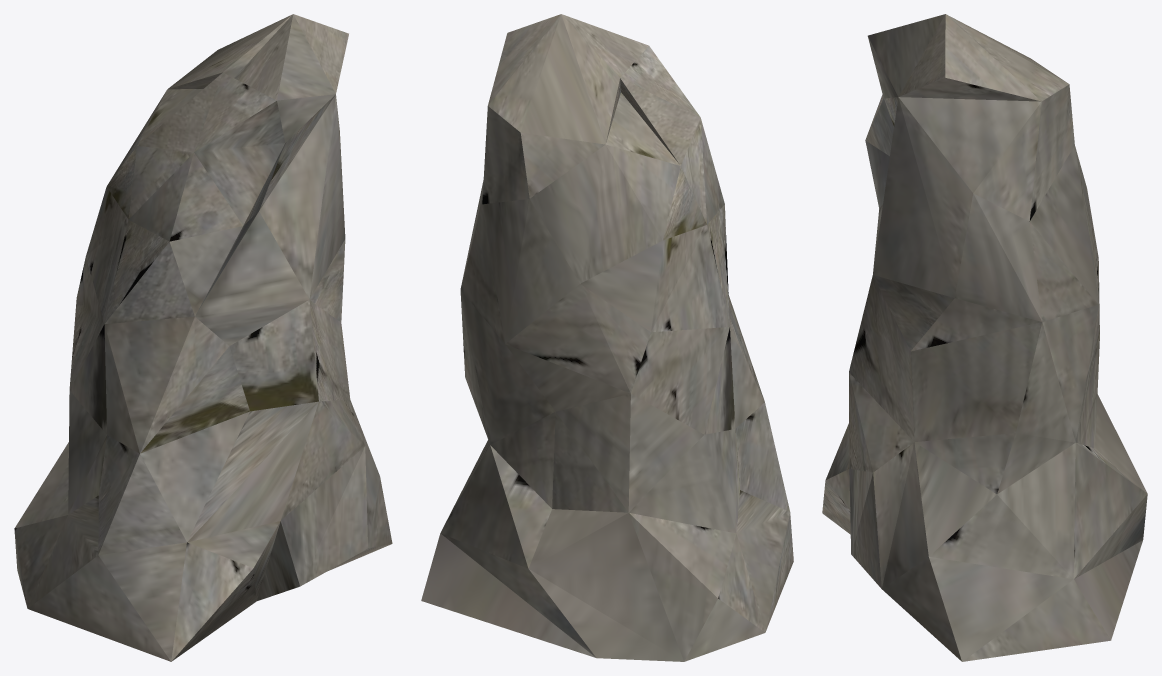
Rendered from ea_limestone_outcrop_lod2.glb.
3 renders of one model, left to right at view 1: azimuth 30°, elevation 25°; view 2: azimuth 150°, elevation 25°; view 3: azimuth 270°, elevation 25°, orthographic. The views are drawn at different scales.
Visible parts, largest first — view 1: output_unwrapped; view 2: output_unwrapped; view 3: output_unwrapped.
Boxes of the visible parts, left/top/right/bottom form: output_unwrapped: left=14, top=14, right=392, bottom=661; output_unwrapped: left=421, top=14, right=793, bottom=661; output_unwrapped: left=822, top=14, right=1147, bottom=661.
Size of the model in its own units: 1.19 by 1.86 by 0.9253.
Materials: 1 (1 with a texture image).
